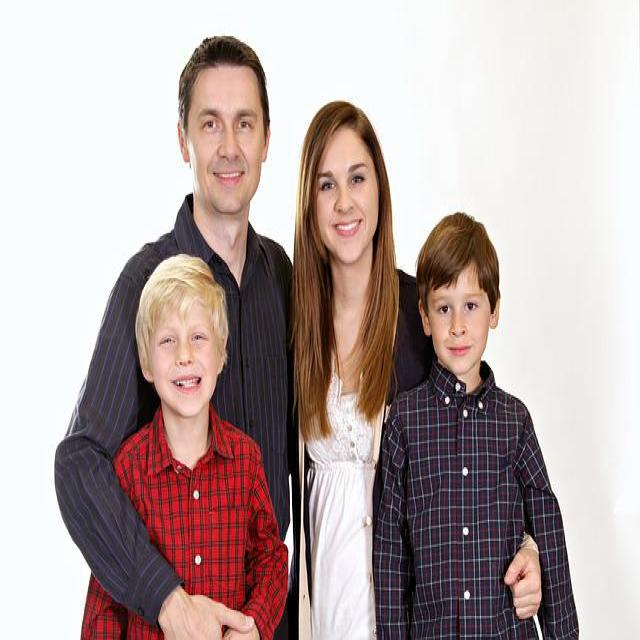adult: (54, 34, 294, 640), (289, 99, 431, 640)
child: (373, 210, 581, 640), (80, 254, 288, 640)
